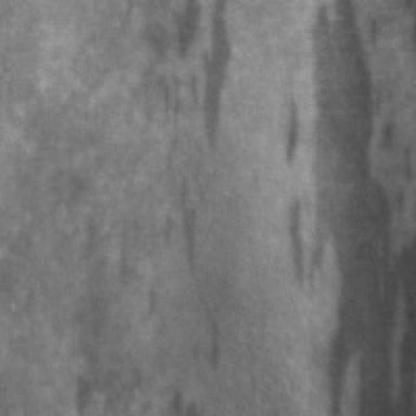inclusion: (280, 0, 410, 410), (66, 214, 172, 410), (137, 0, 229, 152), (166, 171, 204, 272), (192, 293, 224, 373)
